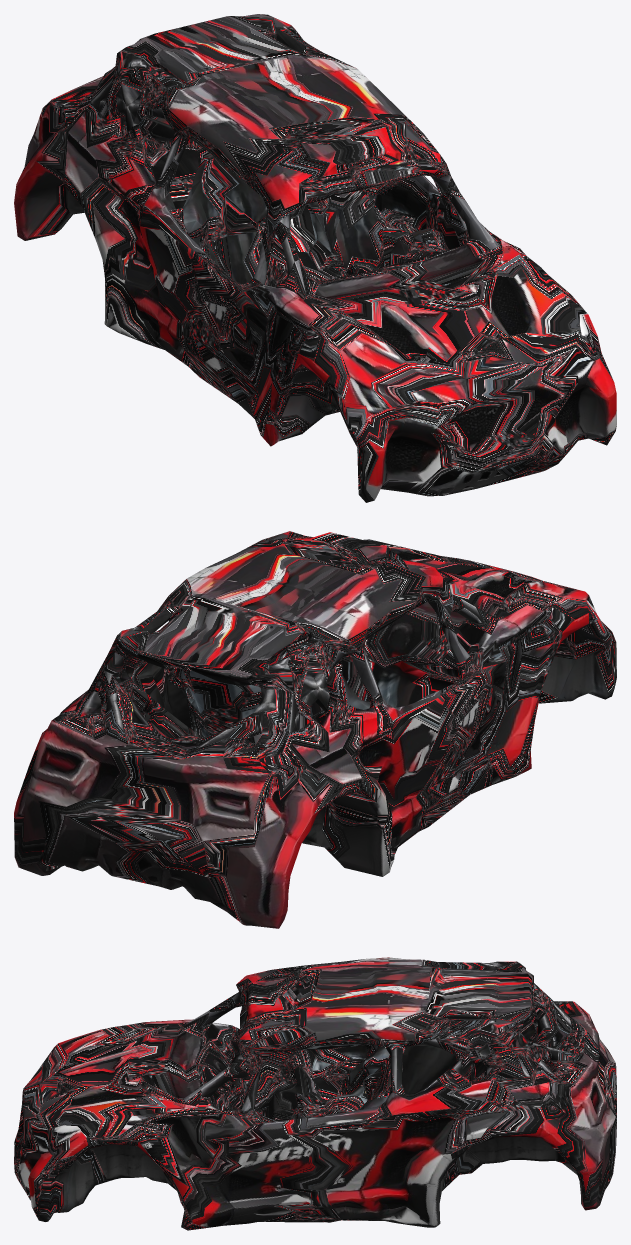
File: buggy_lo.glb
3 renders of one model, top to bottom at view 1: azimuth 30°, elevation 25°; view 2: azimuth 150°, elevation 25°; view 3: azimuth 270°, elevation 25°, orthographic. The views are drawn at different scales.
Visible parts, largest first — view 1: geometry_0; view 2: geometry_0; view 3: geometry_0.
Part boxes in pixels (x1,y1,x2,y2): geometry_0: (14,14,616,502); geometry_0: (14,531,616,928); geometry_0: (14,957,616,1230).
Size of the model in its own units: 1.9 by 1.54 by 4.29.
1 material, 1 textured.
